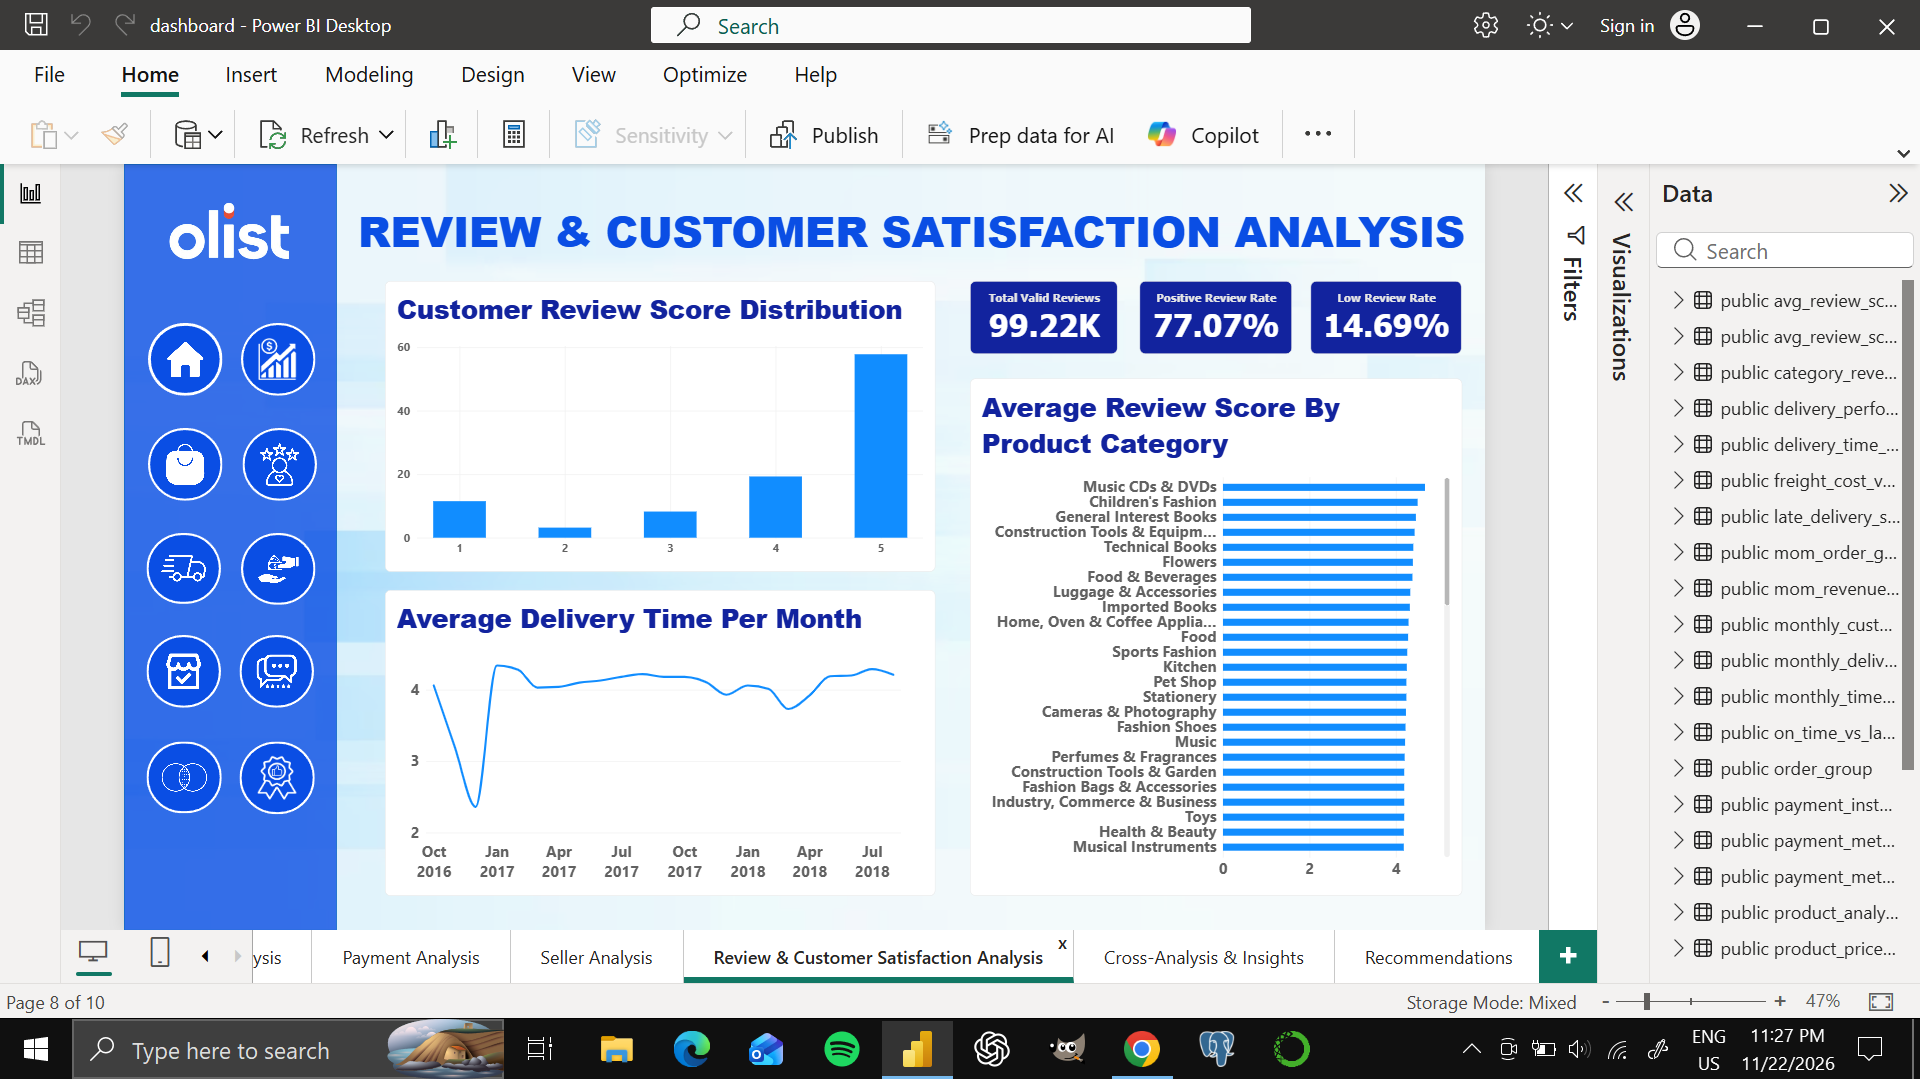

Layout of this report page (visuals, bound fields, positions):
{"tool":"powerbi","page":{"name":"Review & Customer Satisfaction Analysis","canvas":[1920,1080],"ordinal":7},"visuals":[{"type":"shape","box":[0,0,300.1,1080.8],"z":0},{"type":"image","box":[25.8,53.9,246.2,93.8],"z":1000},{"type":"actionButton","box":[33.8,223.8,105,102.5],"z":2000},{"type":"actionButton","box":[165,223.8,105,102.5],"z":3000},{"type":"actionButton","box":[33.8,371.2,105,102.5],"z":4000},{"type":"actionButton","box":[166.2,371.2,105,102.5],"z":5000},{"type":"actionButton","box":[32.5,520,105,100],"z":6000},{"type":"actionButton","box":[165,520,105,101.2],"z":7000},{"type":"actionButton","box":[31.2,665,105,102.5],"z":8000},{"type":"actionButton","box":[163.8,665,105,102.5],"z":9000},{"type":"actionButton","box":[31.2,815,106.2,101.2],"z":10000},{"type":"textbox","box":[300.1,53.9,1620,126.6],"z":11000},{"type":"clusteredColumnChart","title":"Customer Review Score Distribution","fields":{"Category":["public review_score_distribution.review_score"],"Y":["Sum(public review_score_distribution.review_percentage)"]},"box":[368.1,164.1,776,410.3],"z":12000},{"type":"clusteredBarChart","title":"Average Review Score By Product Category","fields":{"Category":["public review_score_by_category.product_category_name"],"Y":["Sum(public review_score_by_category.avg_review_score)"]},"box":[1193.3,302.4,694,729.1],"z":13000},{"type":"lineChart","title":"Average Delivery Time Per Month","fields":{"Category":["public avg_review_score_over_time.review_month"],"Y":["Sum(public avg_review_score_over_time.avg_review_score)"]},"box":[368.1,600.2,776,431.4],"z":14000},{"type":"cardVisual","fields":{"Data":["Query1.Low Review Rate Display"]},"box":[1674,164.1,213.3,103.2],"z":15000},{"type":"cardVisual","fields":{"Data":["Sum(Query2.total_valid_reviews)"]},"box":[1192.8,165,208.7,103.2],"z":16000},{"type":"cardVisual","fields":{"Data":["Query1.Positive Review Rate Display"]},"box":[1431.8,165,215.7,103.2],"z":17000},{"type":"actionButton","box":[163.8,815,106.2,102.5],"z":18000}]}

Visuals, with their boxes on the page's 1920x1080 design canvas (x1, y1, x2, y2). These are canvas units, not pixel positions in the 1920x1079 screenshot, which may show the page scaled, cropped or inside an application window:
shape: [x1=0, y1=0, x2=300, y2=1081]
image: [x1=26, y1=54, x2=272, y2=148]
actionButton: [x1=34, y1=224, x2=139, y2=326]
actionButton: [x1=165, y1=224, x2=270, y2=326]
actionButton: [x1=34, y1=371, x2=139, y2=474]
actionButton: [x1=166, y1=371, x2=271, y2=474]
actionButton: [x1=32, y1=520, x2=138, y2=620]
actionButton: [x1=165, y1=520, x2=270, y2=621]
actionButton: [x1=31, y1=665, x2=136, y2=768]
actionButton: [x1=164, y1=665, x2=269, y2=768]
actionButton: [x1=31, y1=815, x2=137, y2=916]
textbox: [x1=300, y1=54, x2=1920, y2=180]
"Customer Review Score Distribution" clusteredColumnChart: [x1=368, y1=164, x2=1144, y2=574]
"Average Review Score By Product Category" clusteredBarChart: [x1=1193, y1=302, x2=1887, y2=1032]
"Average Delivery Time Per Month" lineChart: [x1=368, y1=600, x2=1144, y2=1032]
cardVisual - Query1.Low Review Rate Display: [x1=1674, y1=164, x2=1887, y2=267]
cardVisual - Sum(Query2.total_valid_reviews): [x1=1193, y1=165, x2=1402, y2=268]
cardVisual - Query1.Positive Review Rate Display: [x1=1432, y1=165, x2=1648, y2=268]
actionButton: [x1=164, y1=815, x2=270, y2=918]
